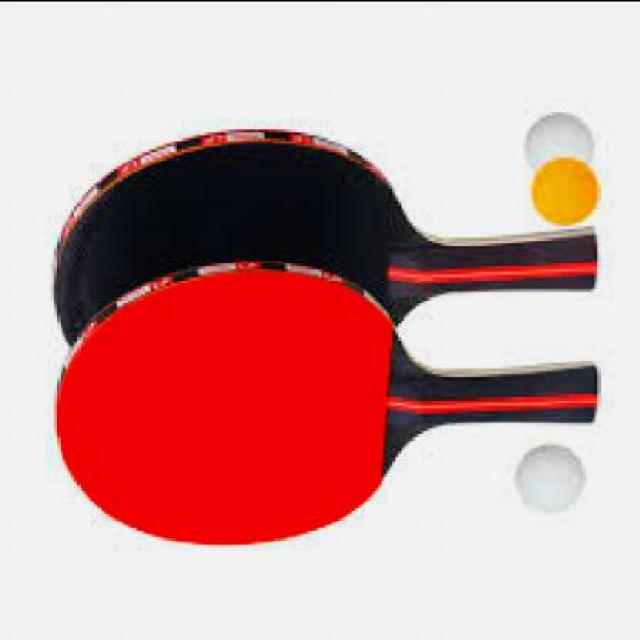table_tennis_racket: (52, 262, 429, 549), (42, 124, 433, 392)
